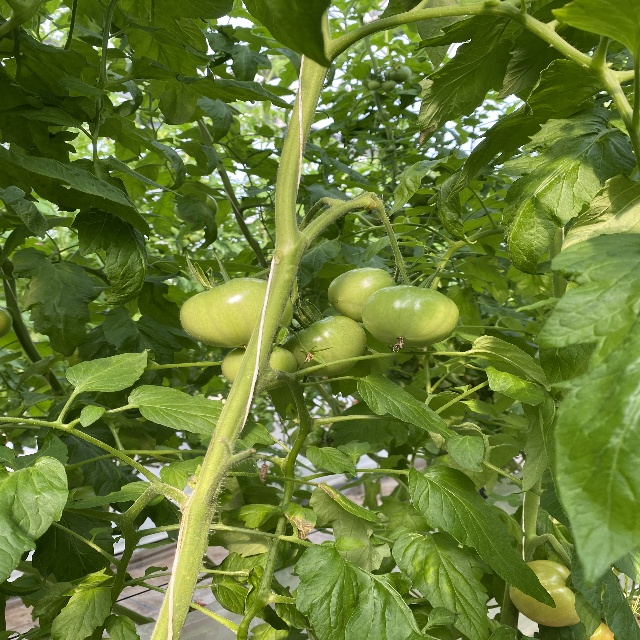b_green: (179, 277, 294, 349), (361, 284, 460, 347), (276, 314, 367, 377), (327, 267, 396, 323), (222, 345, 298, 393)
b_half_ripened: (510, 560, 588, 627)
